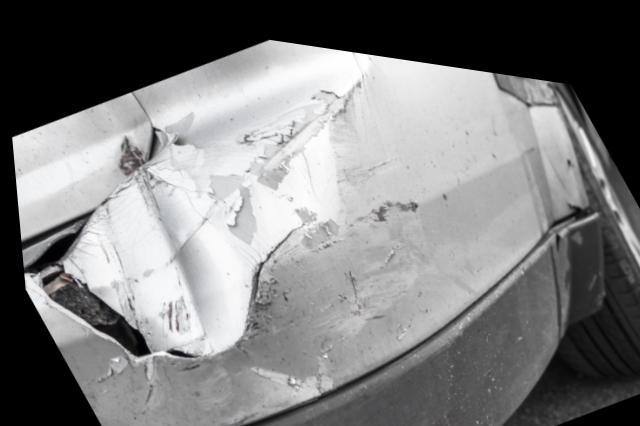crack: (24, 215, 303, 353)
dent: (57, 158, 246, 350)
scratch: (89, 78, 433, 417)
